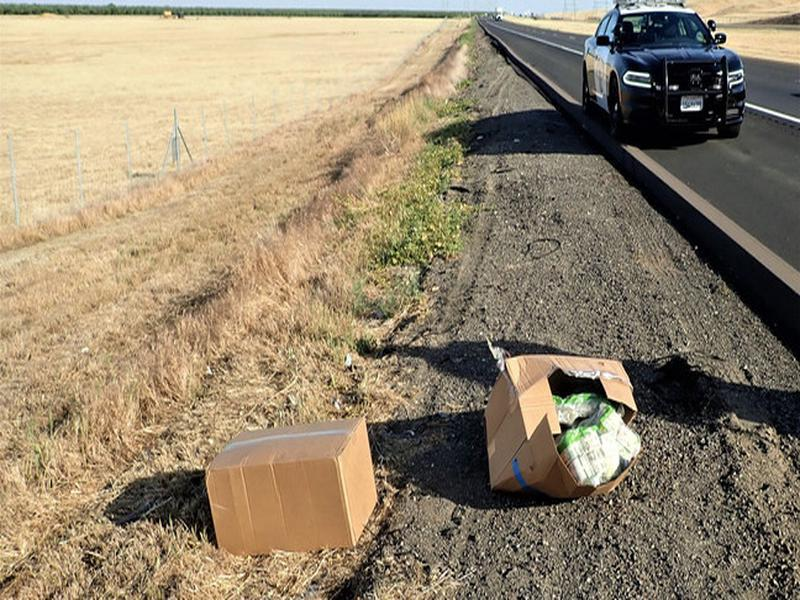cardboard: (201, 414, 381, 561), (483, 350, 640, 506)
